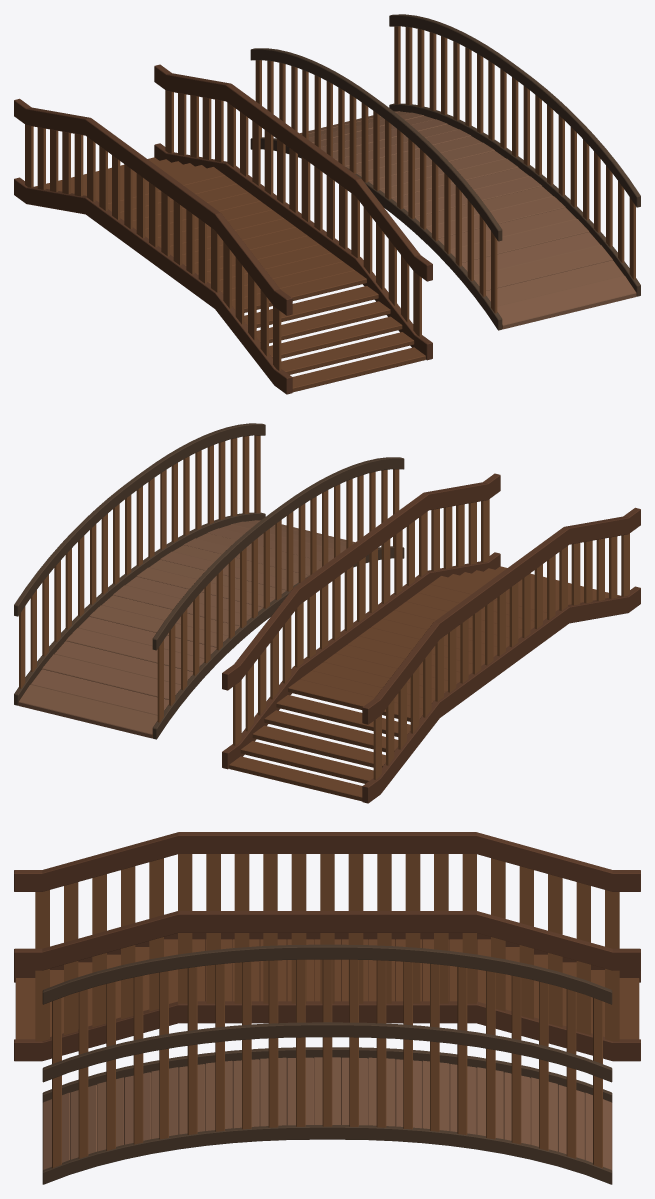
File: Bridges.fbx
3 views of the same model, one above another, from view 1: azimuth 30°, elevation 25°; view 2: azimuth 150°, elevation 25°; view 3: azimuth 270°, elevation 25° (orthographic). The views are drawn at different scales.
Parts seen in each view (by area): view 1: Bridge_1, Bridge_2; view 2: Bridge_1, Bridge_2; view 3: Bridge_2, Bridge_1.
Boxes of the visible parts, bbox=[...] form: Bridge_1: bbox=[14, 64, 432, 394]; Bridge_2: bbox=[250, 14, 640, 330]; Bridge_1: bbox=[222, 473, 640, 803]; Bridge_2: bbox=[14, 423, 404, 739]; Bridge_2: bbox=[42, 944, 612, 1184]; Bridge_1: bbox=[14, 832, 640, 1061].
Bounding box in the file's own units: 513 × 187 × 661.
